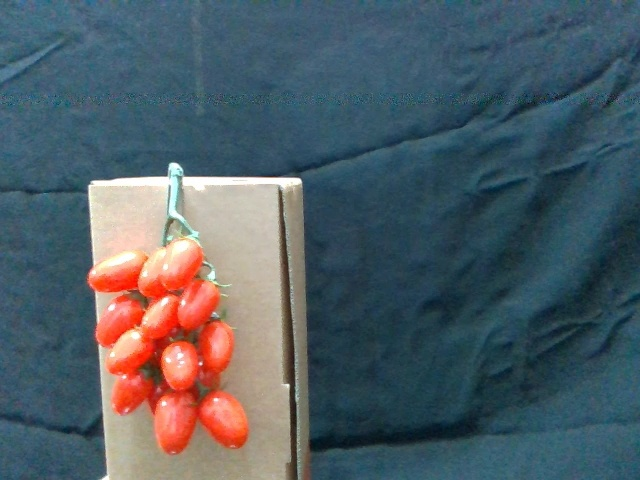tomato: (200, 389, 251, 448), (94, 294, 148, 346), (155, 392, 197, 457), (86, 249, 150, 291), (161, 337, 203, 396), (179, 277, 223, 331), (199, 318, 238, 376), (163, 239, 205, 292), (107, 328, 153, 374), (142, 296, 185, 344), (112, 371, 153, 417), (141, 245, 173, 299)
